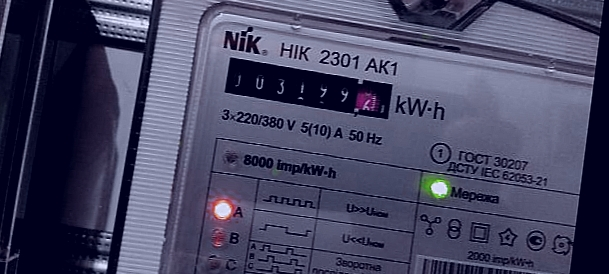0: (229, 66, 244, 88), (252, 68, 267, 90)
1: (296, 74, 308, 94)
3: (274, 74, 287, 94)
6: (361, 94, 373, 111)
9: (337, 82, 351, 102), (317, 78, 330, 99)
screen: (216, 50, 403, 127)
